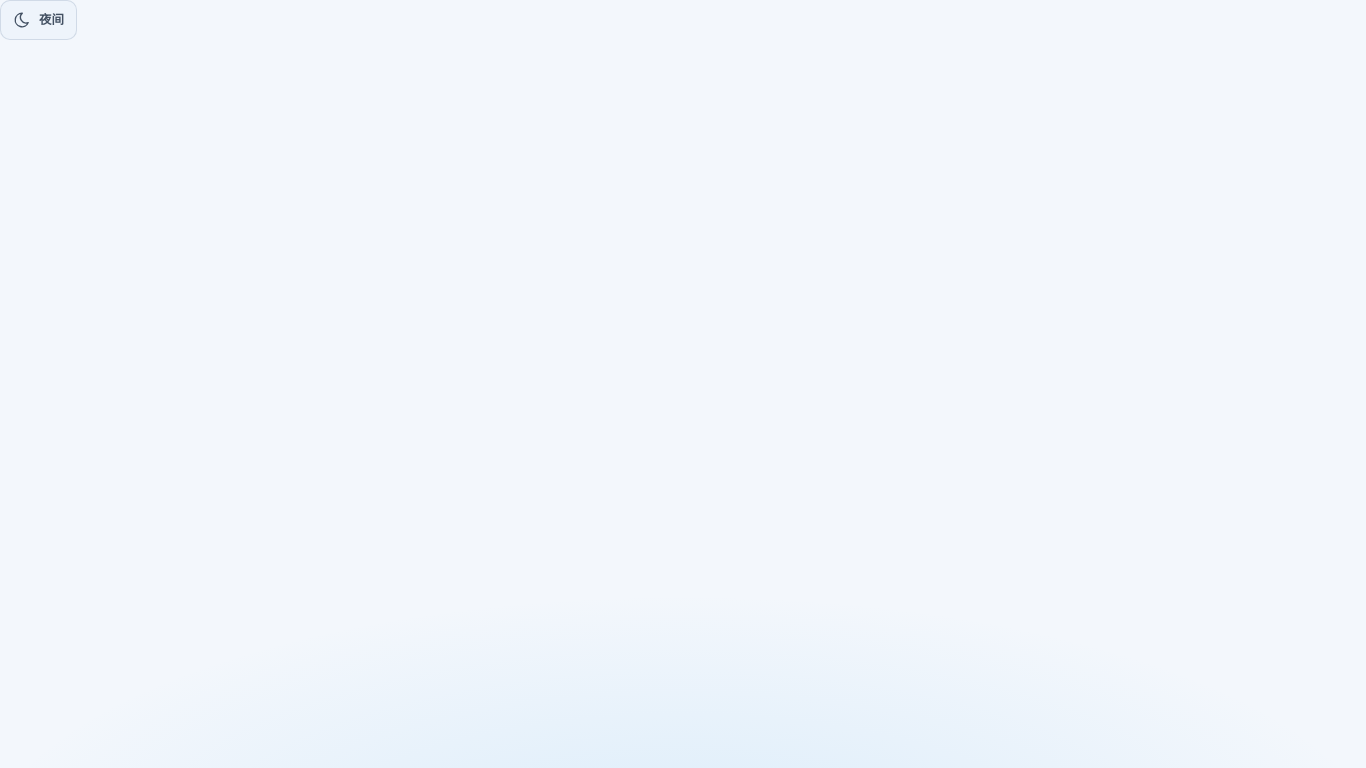
Test: ThemeProvider › starts with the light theme and persists a dark preference
The width and height of the screenshot is (1366, 768).
Click the button with aria-label "切换到夜间模式" at (38, 20), box x1=0 y1=0 x2=77 y2=40
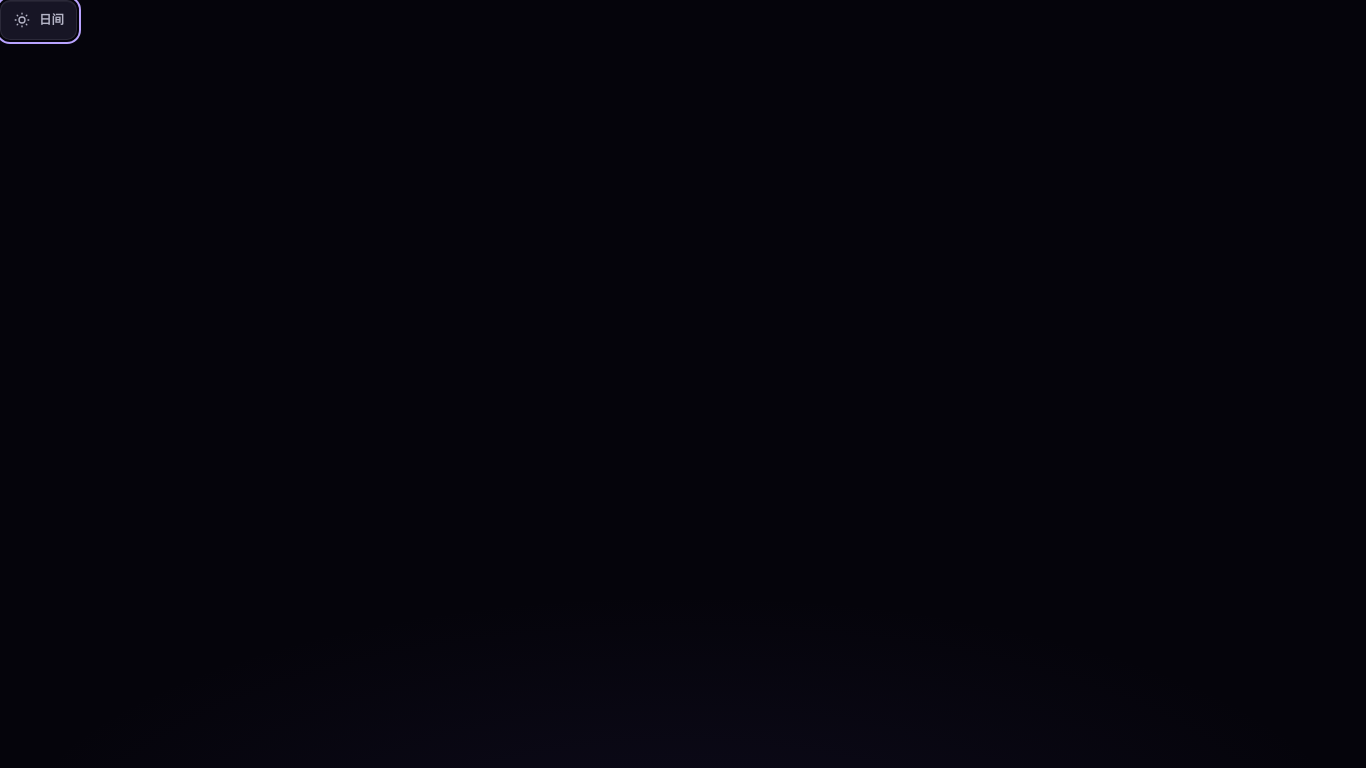
Result: the button with aria-label "切换到日间模式" is shown at x1=0 y1=0 x2=77 y2=40
